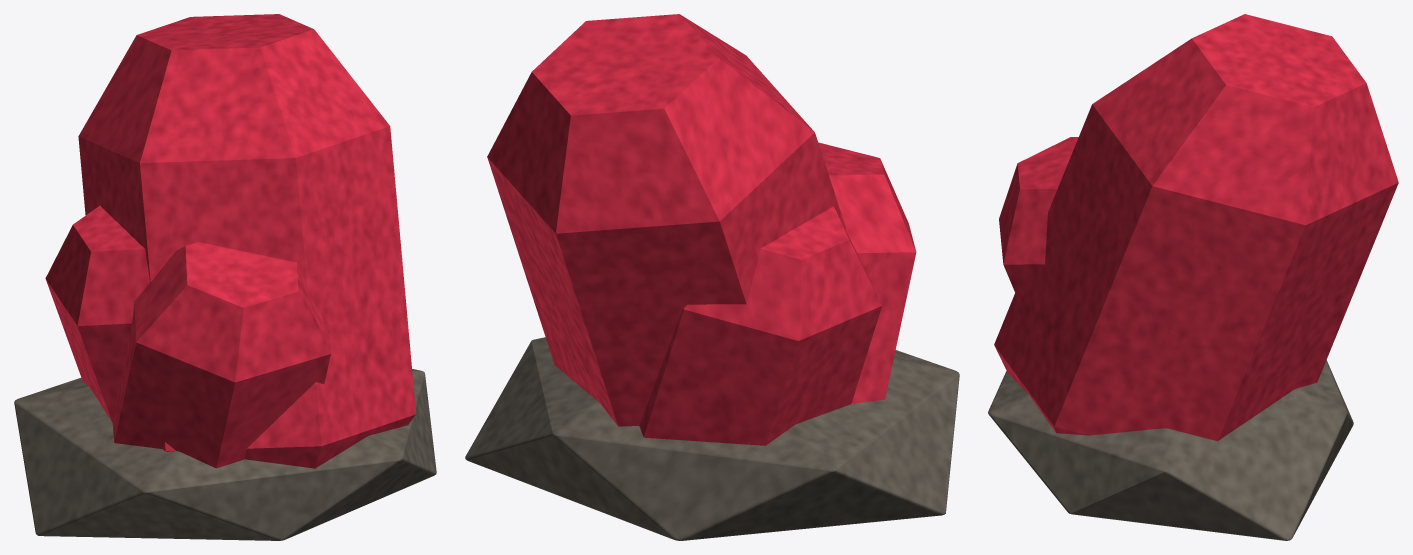
File: Ruby.fbx
The picture shows the model from 3 angles, left to right: view 1: azimuth 30°, elevation 25°; view 2: azimuth 150°, elevation 25°; view 3: azimuth 270°, elevation 25°; orthographic projection. The views are drawn at different scales.
Parts seen in each view (by area): view 1: SDT_Mineral_Ruby; view 2: SDT_Mineral_Ruby; view 3: SDT_Mineral_Ruby.
Boxes of the visible parts, <box> form: SDT_Mineral_Ruby: <box>14,14,436,540</box>; SDT_Mineral_Ruby: <box>465,14,959,540</box>; SDT_Mineral_Ruby: <box>988,14,1398,540</box>.
Bounding box in the file's own units: 48 × 55 × 43.
1 material, 1 textured.
